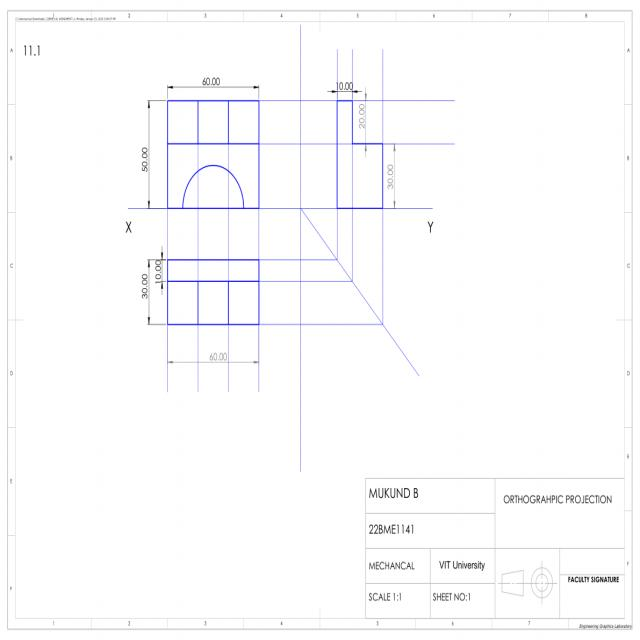Drawings: (133, 58, 404, 348)
